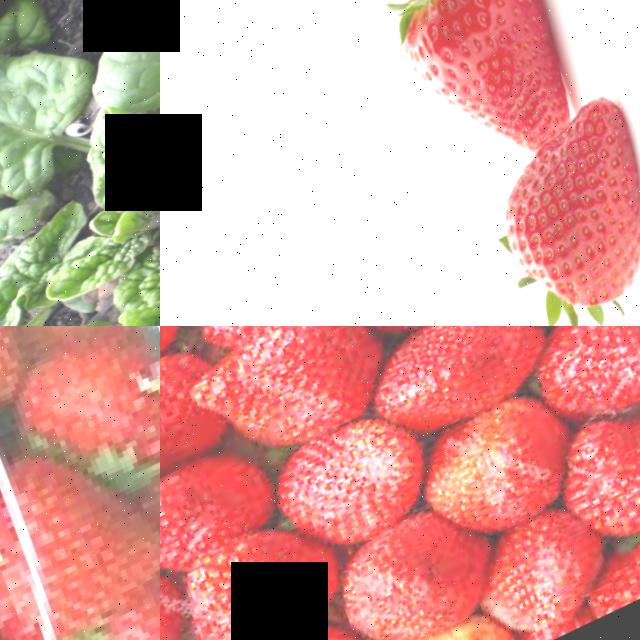spinach: (0, 40, 113, 213), (69, 0, 160, 136)
strawberry: (356, 0, 591, 191), (466, 98, 640, 326), (181, 326, 399, 489), (0, 440, 160, 640), (173, 509, 356, 640), (326, 512, 497, 640), (428, 398, 573, 547), (557, 401, 640, 569), (160, 348, 216, 508), (174, 326, 322, 355)
